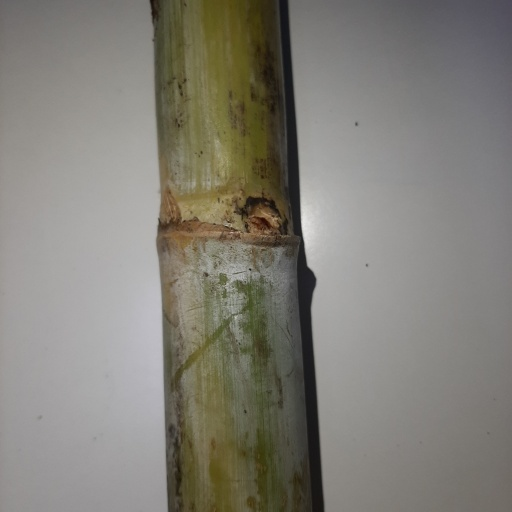Damage_Bud: (244, 197, 284, 235)
